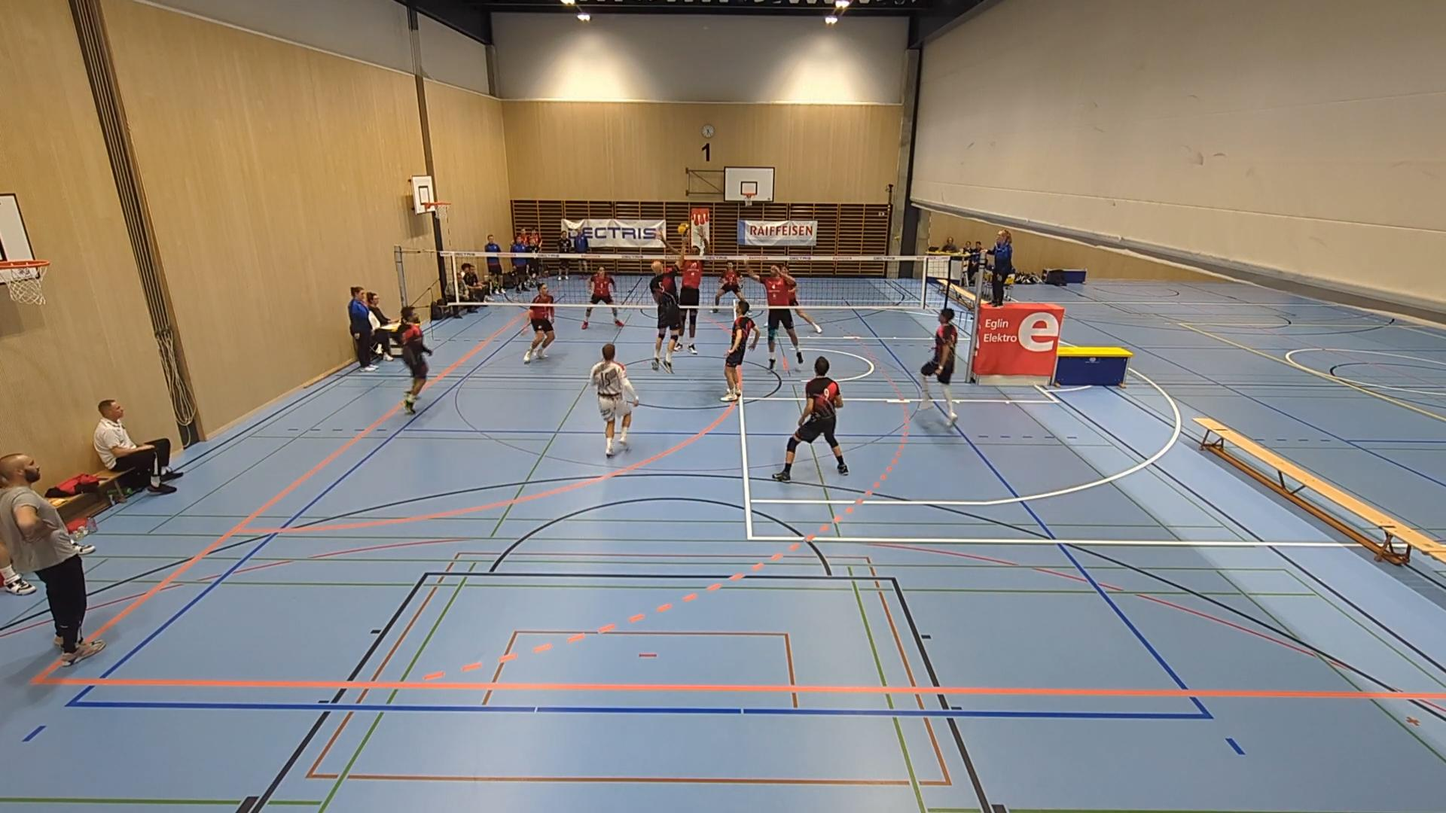attacco: (640, 249, 698, 369)
muro: (664, 221, 707, 356)
